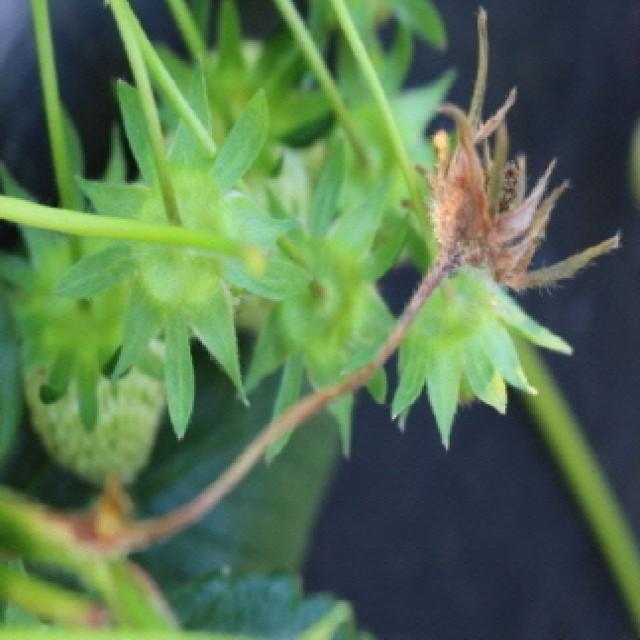Gray Mold: (416, 5, 621, 293)
